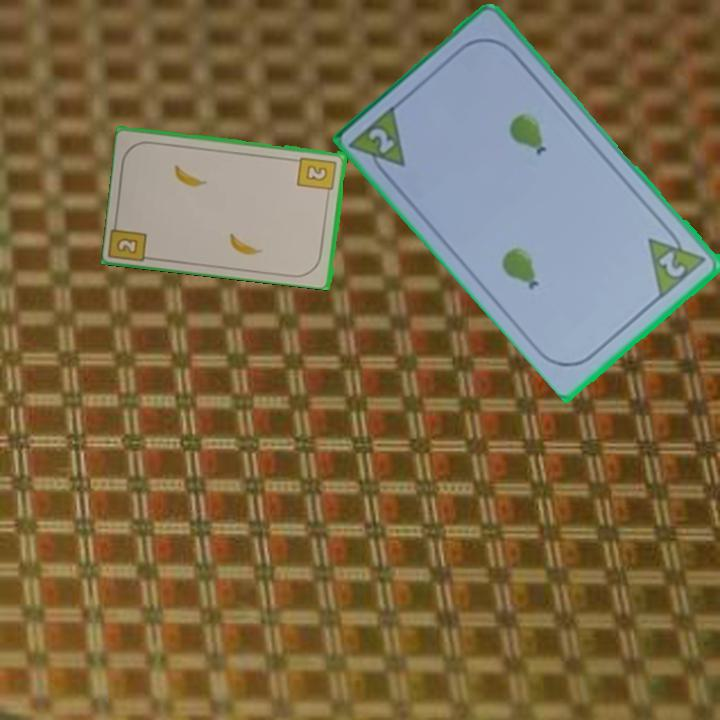2b: (295, 153, 339, 198), (113, 234, 141, 257)
2p: (644, 221, 711, 300), (365, 124, 399, 157)
